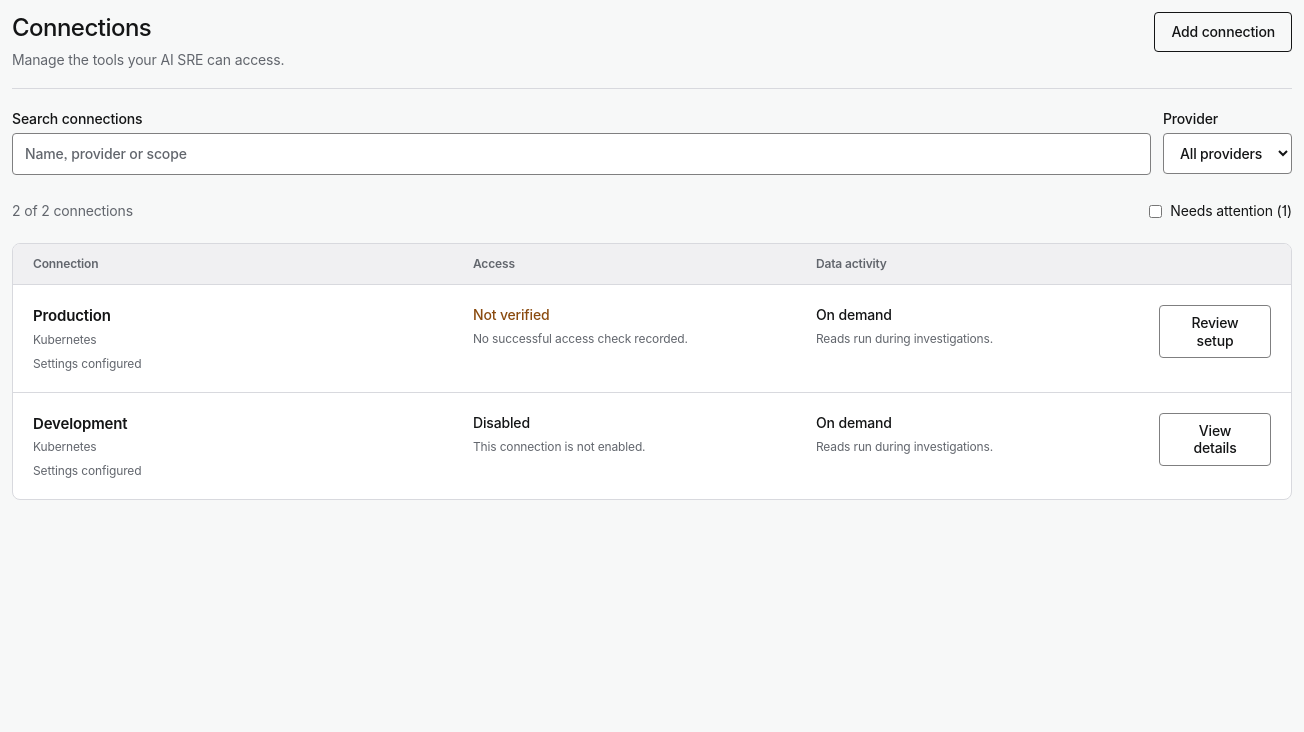
Test case: inventory filters instances and opens a directly addressable detail
The width and height of the screenshot is (1304, 732).
Type "prod" into the search field labelled "Search connections" at (582, 154), box x1=12 y1=133 x2=1151 y2=175
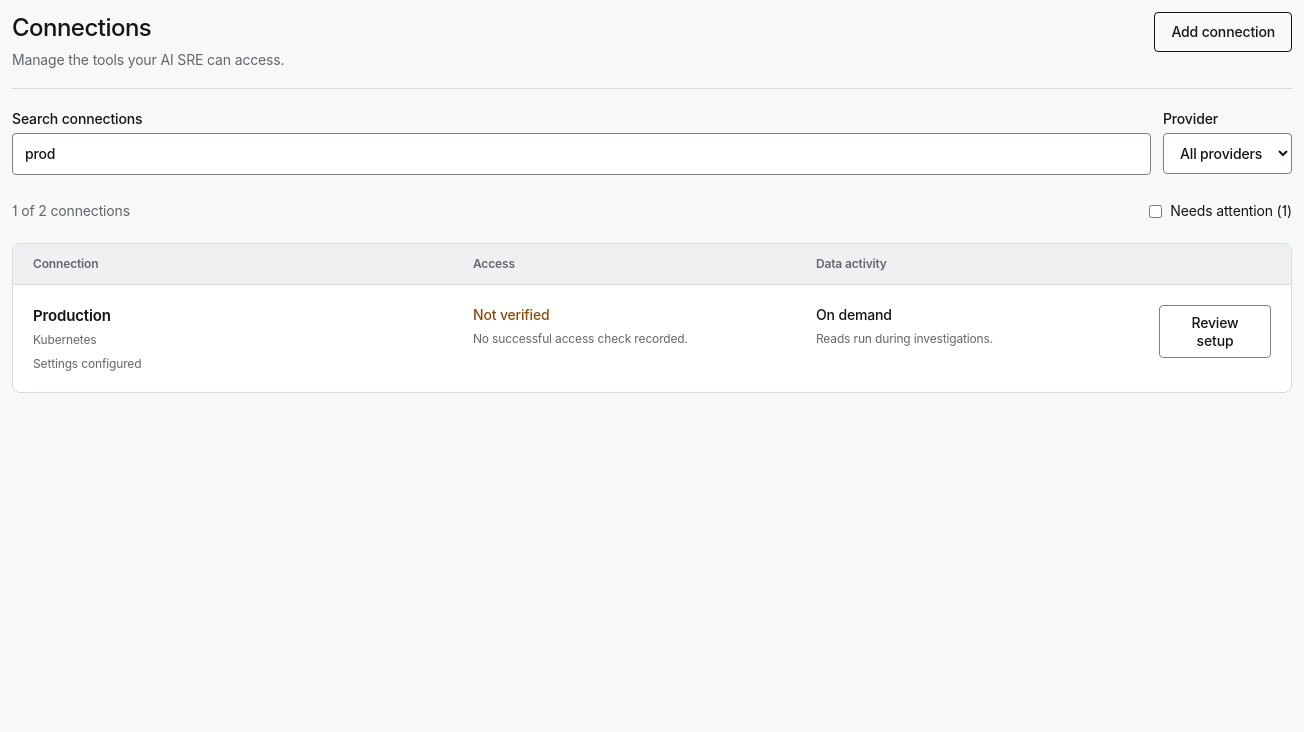
Expected: the link "Development" is gone
Click the button "Review setup" at (1215, 332), box x1=1159 y1=305 x2=1271 y2=358
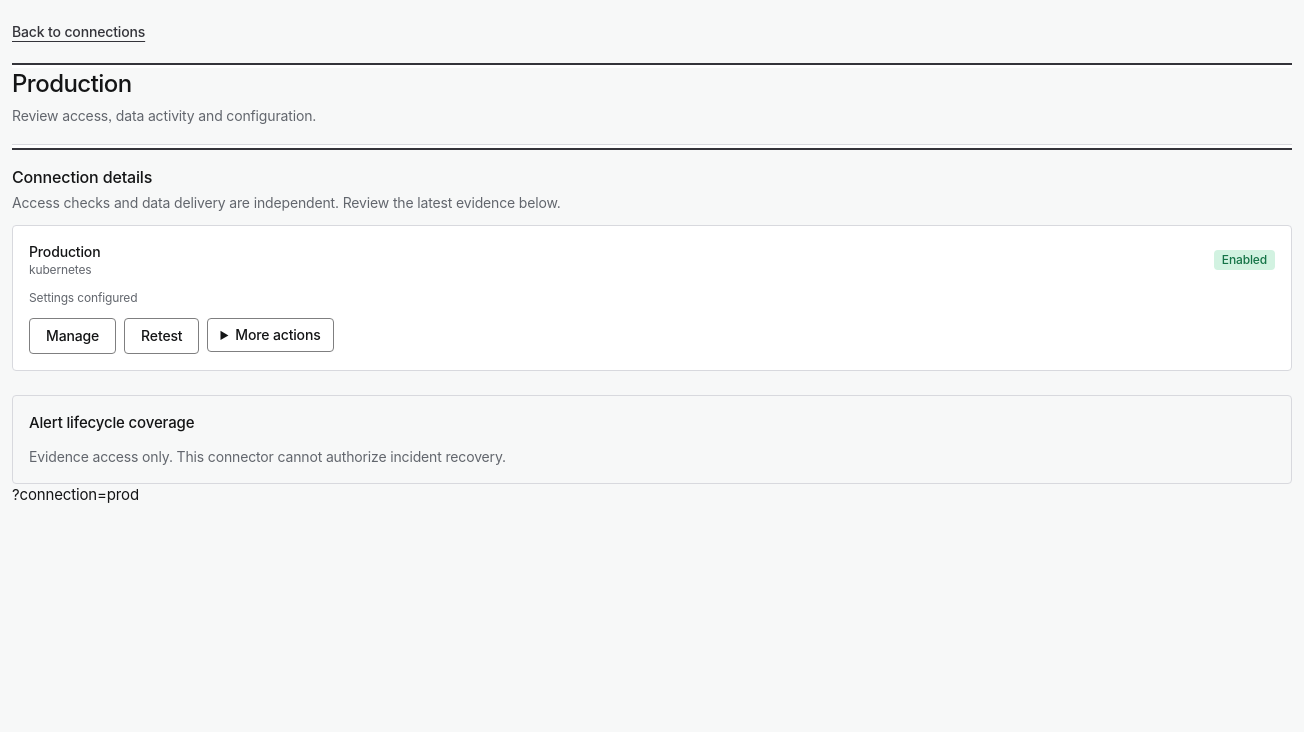
Expected: the text named "Location" reads "?connection=prod", x1=12 y1=484 x2=139 y2=504
Expected: the button "Manage" is shown, x1=29 y1=318 x2=116 y2=354
Click the heading "More actions" at (271, 335), box x1=208 y1=318 x2=334 y2=352
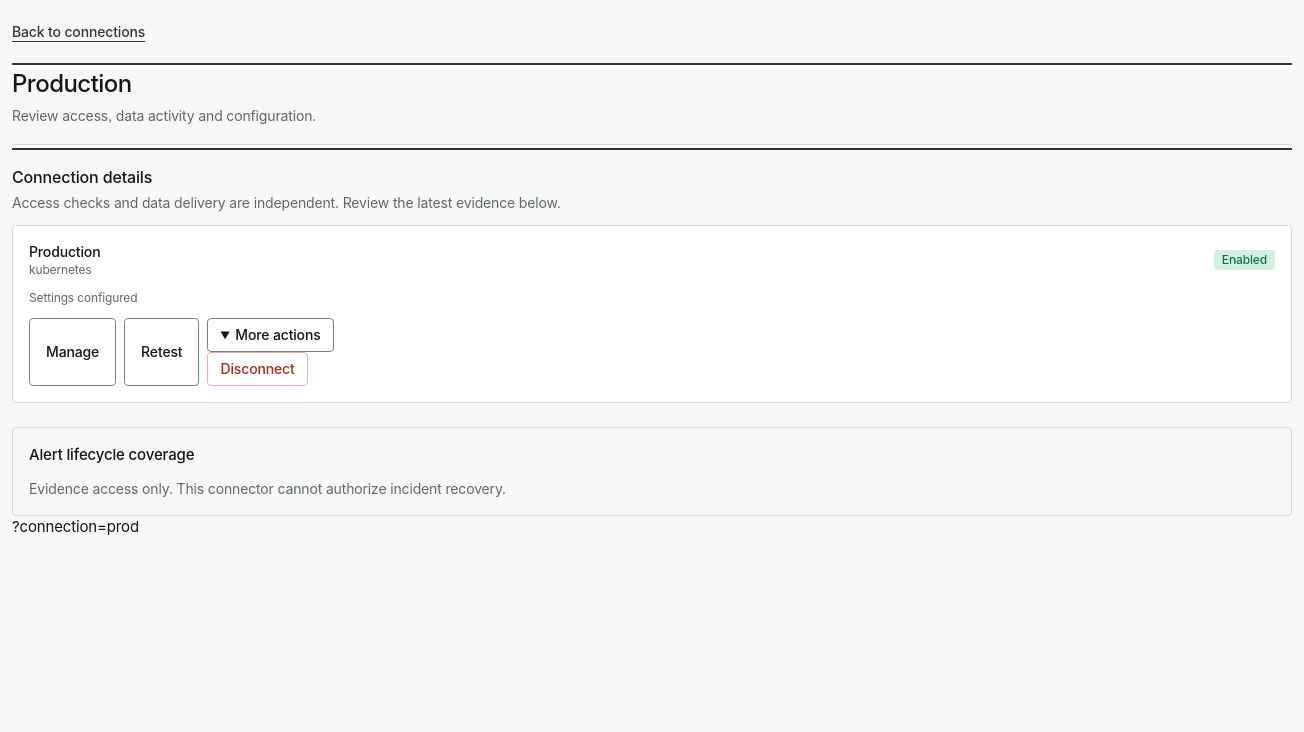
Expected: the button "Disconnect" is shown, x1=208 y1=352 x2=308 y2=386
Click the button "Back to connections" at (79, 32), box x1=12 y1=12 x2=145 y2=52
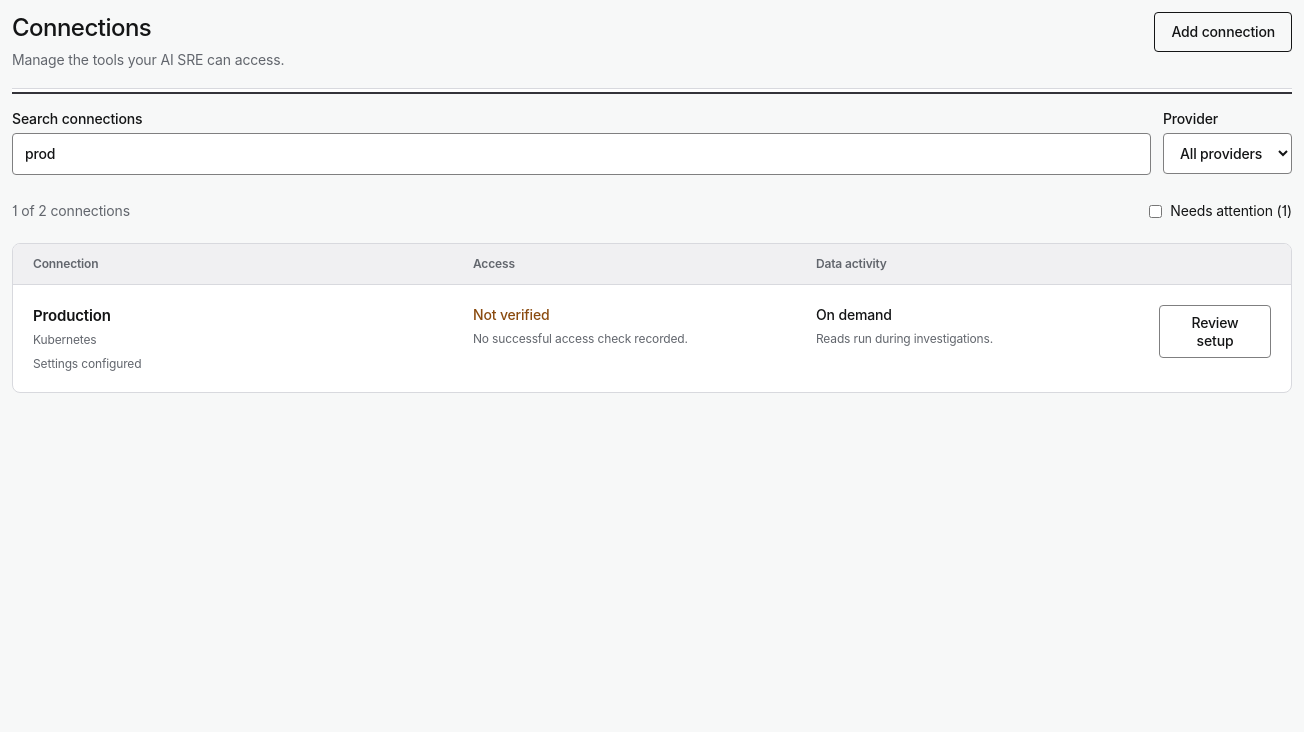
Expected: the search field labelled "Search connections" holds "prod", x1=12 y1=133 x2=1151 y2=175
